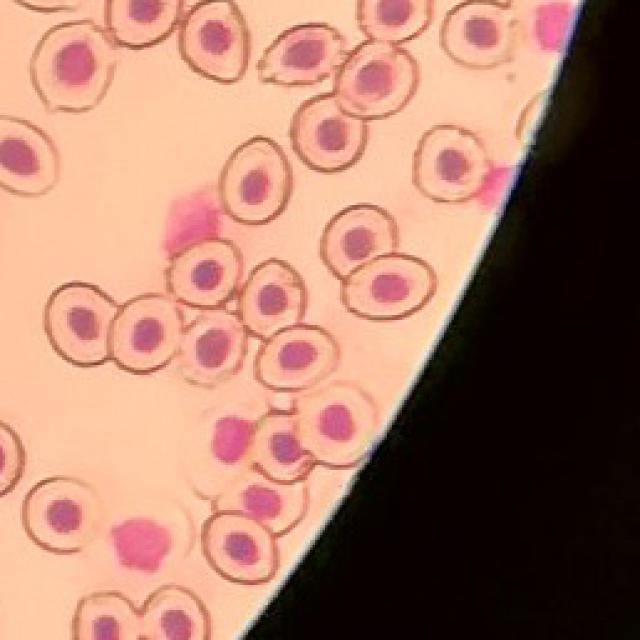RBC: (31, 21, 115, 110), (334, 40, 422, 122), (211, 468, 309, 538), (298, 384, 376, 466), (220, 137, 291, 223), (45, 282, 118, 365), (344, 253, 435, 319), (22, 477, 98, 553), (321, 204, 398, 278), (291, 94, 365, 171), (180, 0, 249, 82), (414, 126, 489, 201), (202, 511, 278, 583), (111, 296, 181, 372), (249, 407, 317, 485), (258, 325, 338, 389), (259, 24, 344, 84), (240, 260, 304, 338), (169, 239, 240, 307), (181, 311, 245, 384), (0, 116, 59, 195), (441, 1, 512, 66), (103, 0, 185, 50), (139, 586, 209, 639), (72, 592, 139, 639), (359, 0, 431, 42)
WBC: (163, 198, 220, 254), (112, 518, 171, 571), (212, 416, 254, 463), (535, 3, 571, 50)
